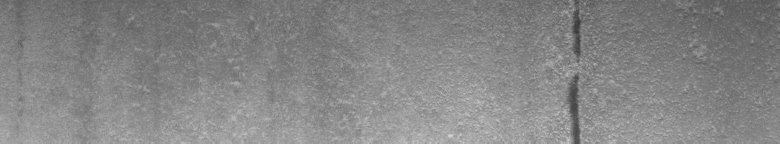hd: (564, 4, 584, 136)
